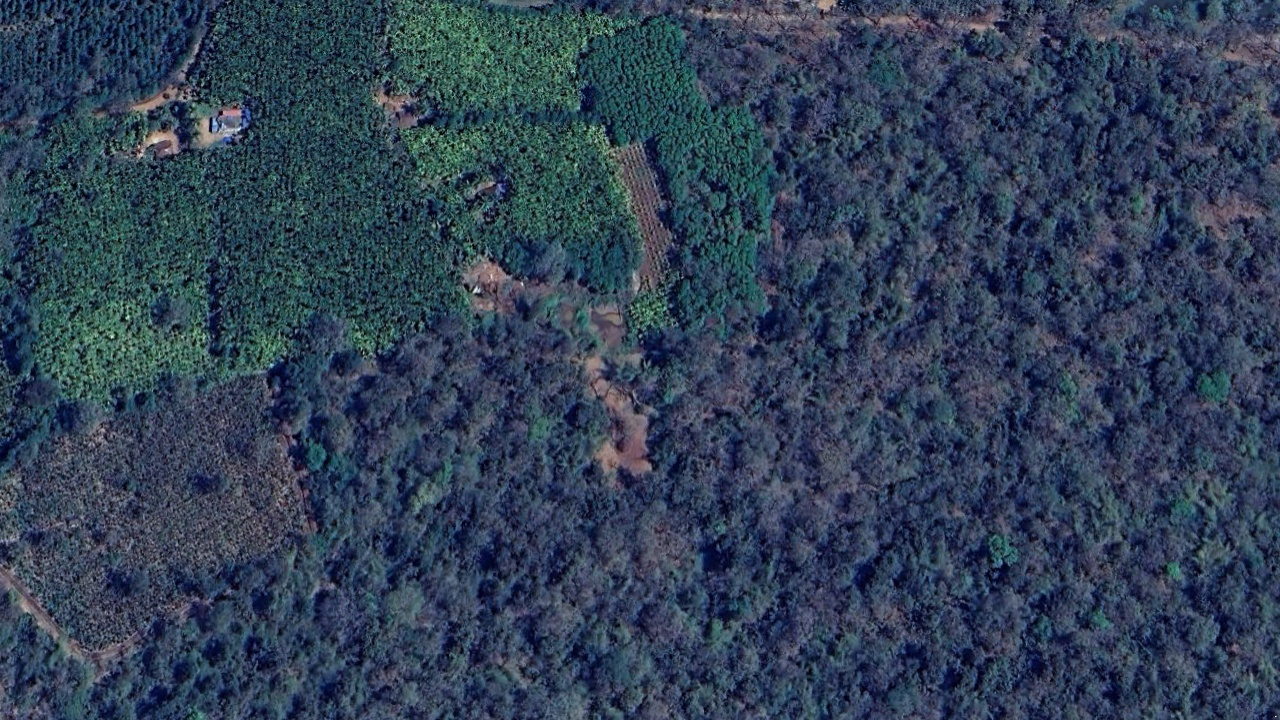arecanut: (39, 114, 462, 383), (402, 113, 653, 247), (395, 1, 622, 115), (191, 3, 385, 113)
